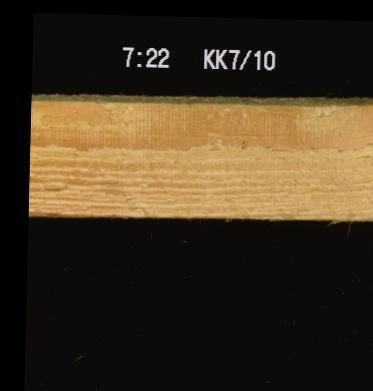split: (197, 122, 305, 137)
